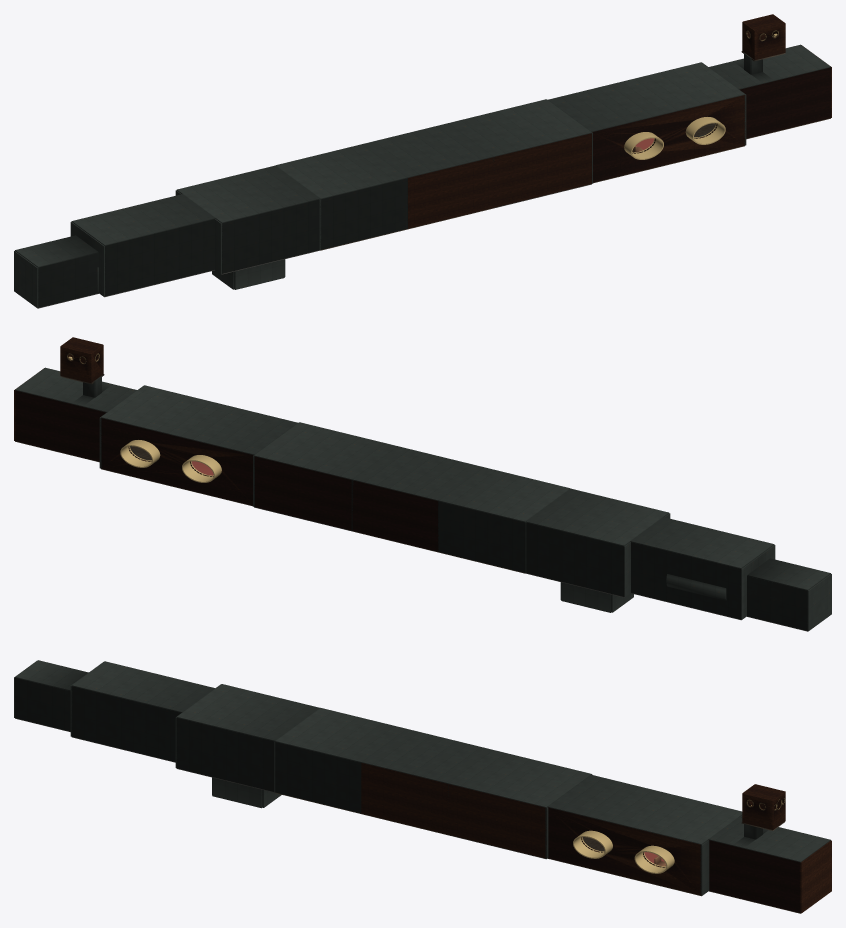
The model's file is nautilus_interior.glb.
The picture shows the model from 3 angles, top to bottom: view 1: azimuth 30°, elevation 25°; view 2: azimuth 150°, elevation 25°; view 3: azimuth 330°, elevation 25°; orthographic projection.
Parts seen in each view (by area): view 1: boat_iron_in, boat_walnut, boat_brass, boat_teak; view 2: boat_iron_in, boat_walnut, boat_brass, boat_teak; view 3: boat_iron_in, boat_walnut, boat_brass, boat_teak.
Boxes of the visible parts, x1,y1,x2,y2 form: boat_iron_in: [14, 44, 830, 308]; boat_walnut: [407, 14, 831, 228]; boat_brass: [624, 30, 778, 159]; boat_teak: [320, 51, 830, 250]; boat_iron_in: [15, 367, 831, 631]; boat_walnut: [14, 337, 438, 551]; boat_brass: [67, 353, 221, 482]; boat_teak: [15, 374, 525, 573]; boat_iron_in: [14, 660, 830, 895]; boat_walnut: [361, 763, 831, 913]; boat_brass: [573, 798, 785, 873]; boat_teak: [275, 792, 800, 913].
Bounding box in the file's own units: 64.16 × 9.85 × 8.2.
Materials: 16 (4 with a texture image).
